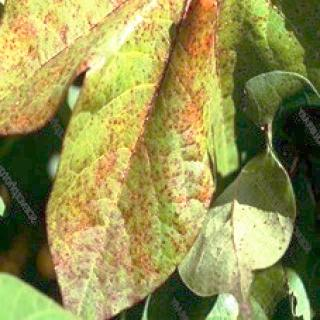leaf spot: (61, 10, 213, 306), (2, 3, 80, 141), (232, 152, 294, 292)
